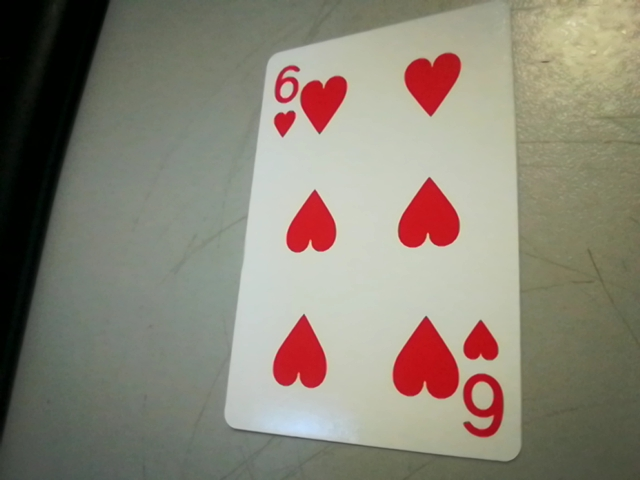hx 6: (455, 316, 518, 446)
